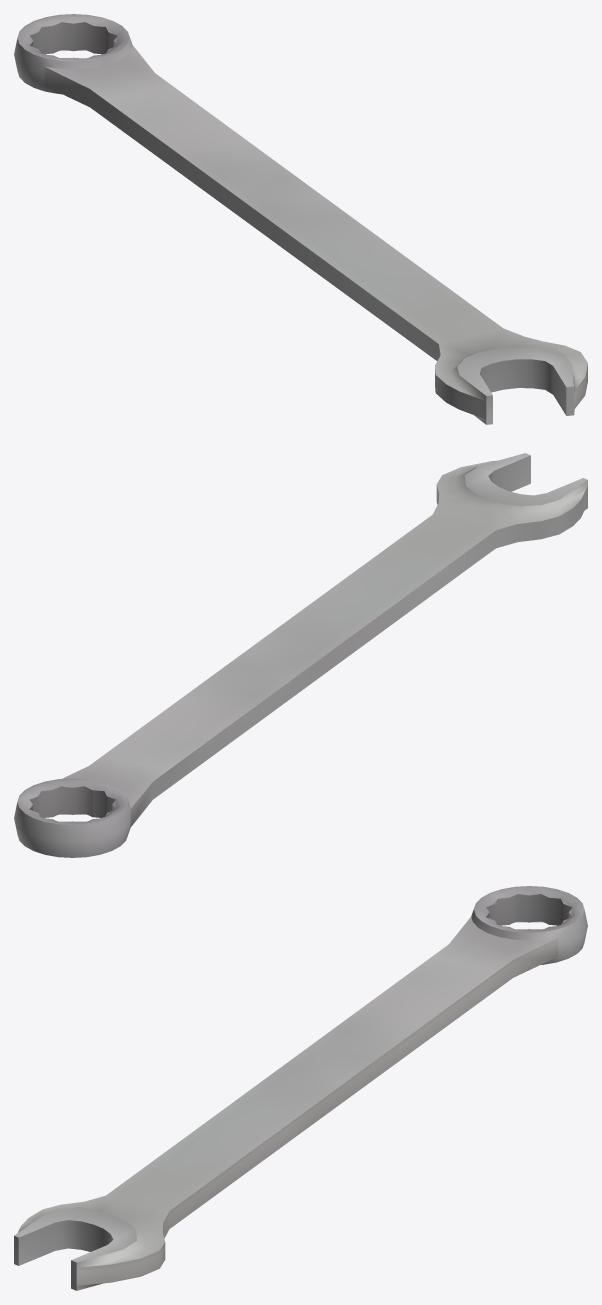
The model's file is SM_Wrench_10_f6ce3a.glb.
The picture shows the model from 3 angles, top to bottom: view 1: azimuth 30°, elevation 25°; view 2: azimuth 150°, elevation 25°; view 3: azimuth 330°, elevation 25°; orthographic projection.
Bounding box in the file's own units: 0.0196 × 0.00478 × 0.1294.
1 material, 1 textured.
